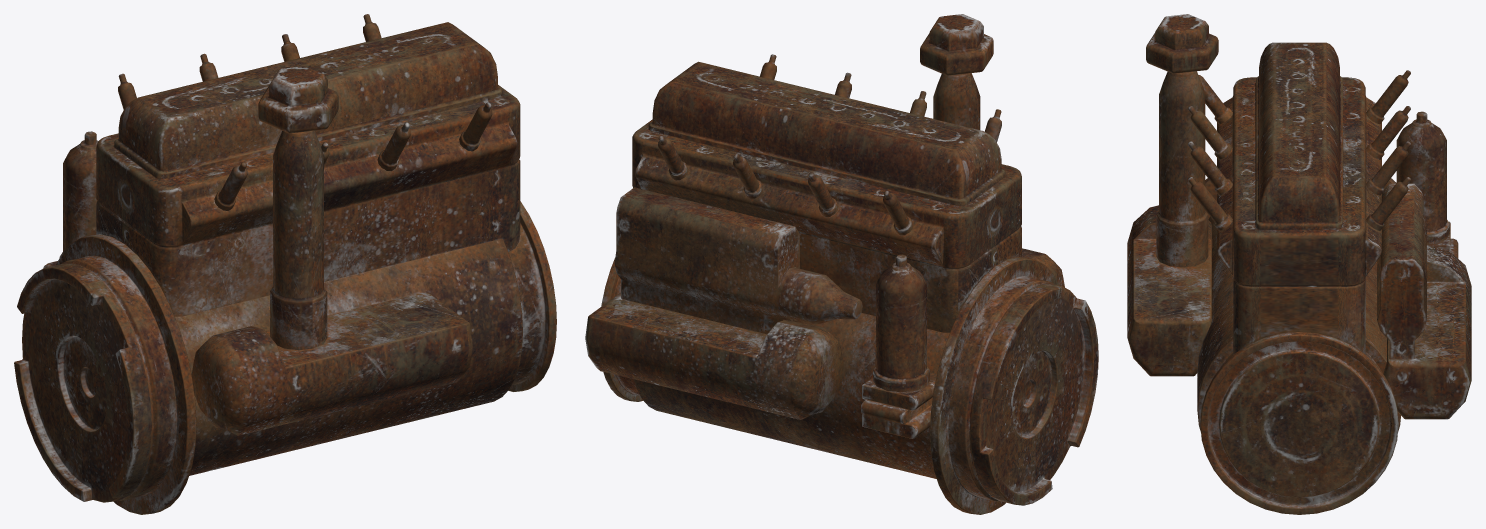
File: SM_engine.fbx
3 renders of one model, left to right at view 1: azimuth 30°, elevation 25°; view 2: azimuth 150°, elevation 25°; view 3: azimuth 270°, elevation 25°, orthographic. The views are drawn at different scales.
Visible parts, largest first — view 1: SM_engine_LOD0; view 2: SM_engine_LOD0; view 3: SM_engine_LOD0.
Part boxes in pixels (box(x1,y1,x2,y2)): SM_engine_LOD0: box(14, 14, 556, 514); SM_engine_LOD0: box(585, 14, 1098, 514); SM_engine_LOD0: box(1127, 14, 1471, 514).
Bounding box in the file's own units: 89.99 × 70 × 90.
